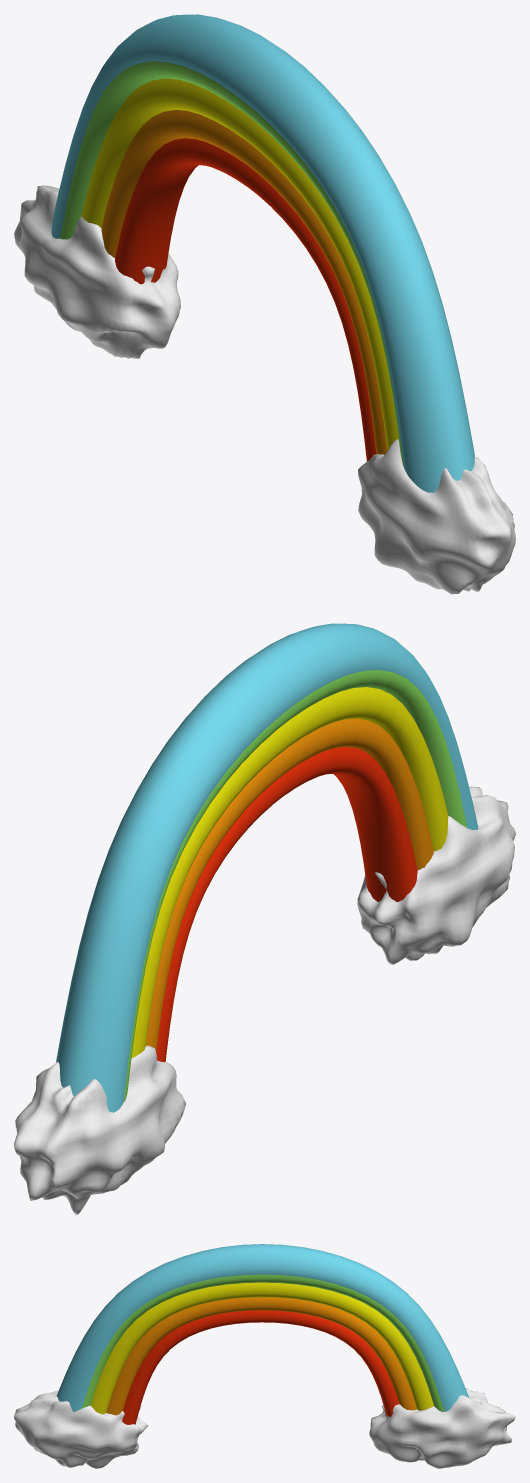
File: raindow_doorway.fbx
3 views of the same model, one above another, from view 1: azimuth 30°, elevation 25°; view 2: azimuth 150°, elevation 25°; view 3: azimuth 270°, elevation 25° (orthographic). The views are drawn at different scales.
Visible parts, largest first — view 1: rainboow, clouds; view 2: rainboow, clouds; view 3: rainboow, clouds.
Boxes of the visible parts, x1,y1,x2,y2 form: rainboow: (51,14,474,492); clouds: (14,185,515,594); rainboow: (56,623,478,1112); clouds: (14,786,515,1215); rainboow: (56,1244,468,1424); clouds: (14,1388,515,1468).
Size of the model in its own units: 62.21 by 239 by 488.
